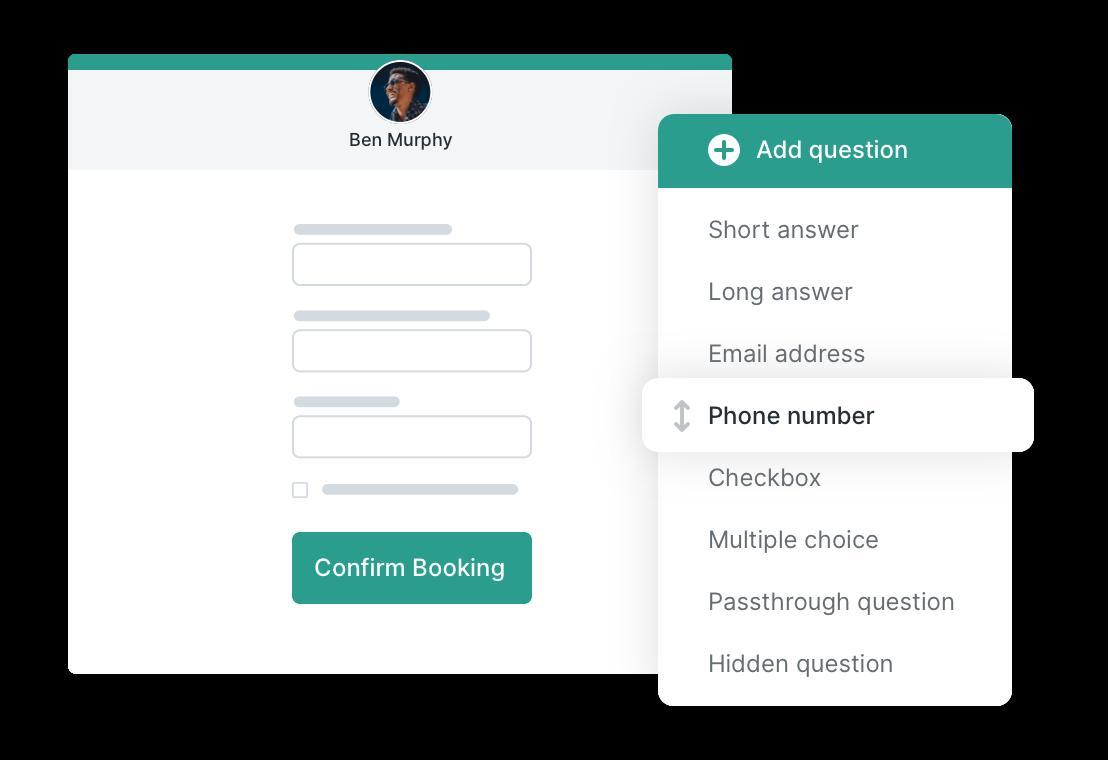button: (293, 534, 533, 605)
checkbox: (292, 483, 307, 499)
icon: (708, 132, 741, 170), (674, 396, 693, 434)
input: (296, 418, 533, 460), (293, 331, 532, 372), (294, 244, 532, 285)
label: (705, 586, 967, 623), (702, 645, 903, 690), (702, 526, 888, 562), (704, 269, 859, 310), (706, 334, 873, 371), (707, 213, 868, 248), (702, 400, 881, 431), (754, 136, 912, 169), (705, 463, 831, 496)
